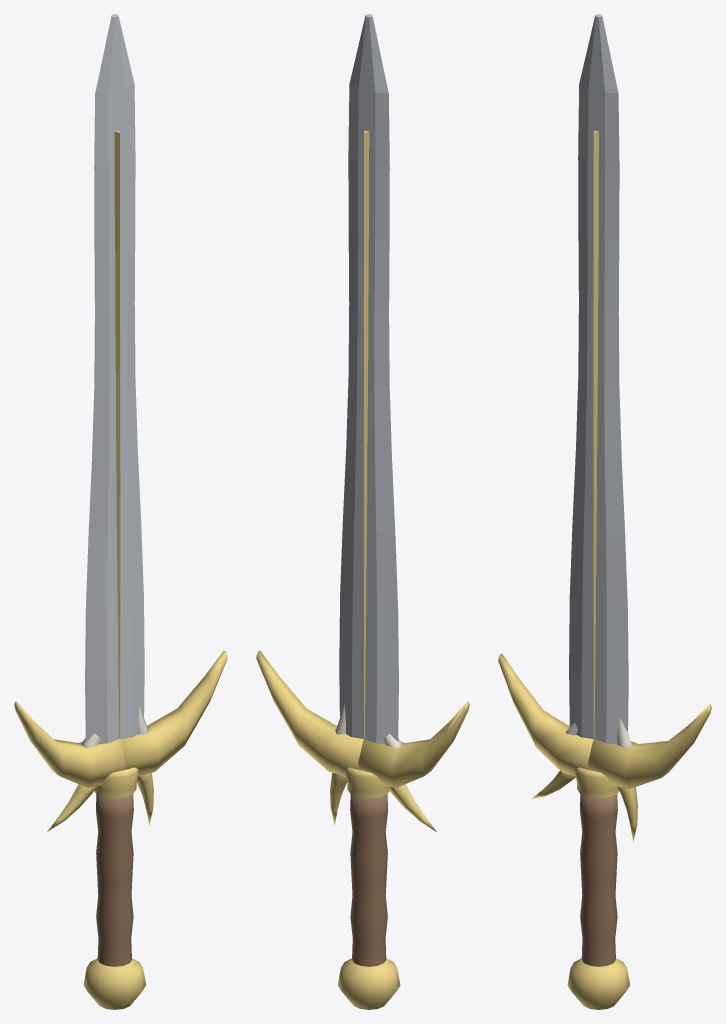
File: wpn_dragon_sword.glb
3 renders of one model, left to right at view 1: azimuth 30°, elevation 25°; view 2: azimuth 150°, elevation 25°; view 3: azimuth 330°, elevation 25°, orthographic.
Visible parts, largest first — view 1: wpn_dragon_sword; view 2: wpn_dragon_sword; view 3: wpn_dragon_sword.
Part boxes in pixels (x1,y1,x2,y2): wpn_dragon_sword: (14,14,227,1009); wpn_dragon_sword: (256,14,469,1009); wpn_dragon_sword: (498,14,711,1009).
Bounding box in the file's own units: 0.238 × 1.08 × 0.062.
